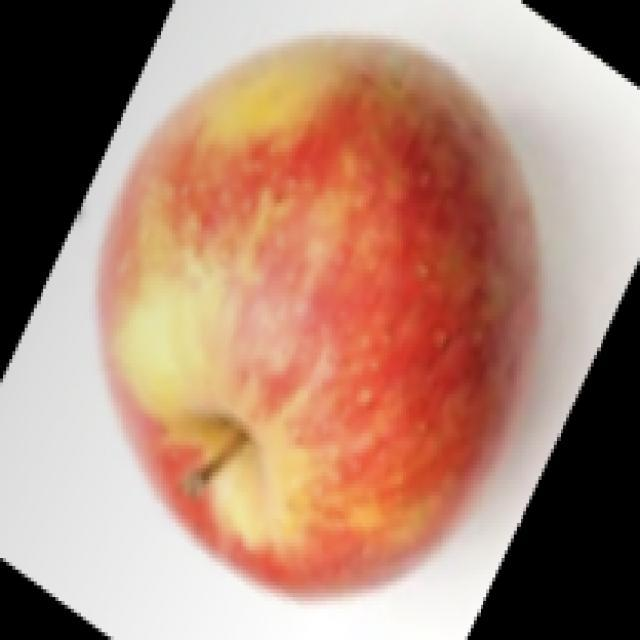Fresh Apple: (88, 26, 546, 596)
